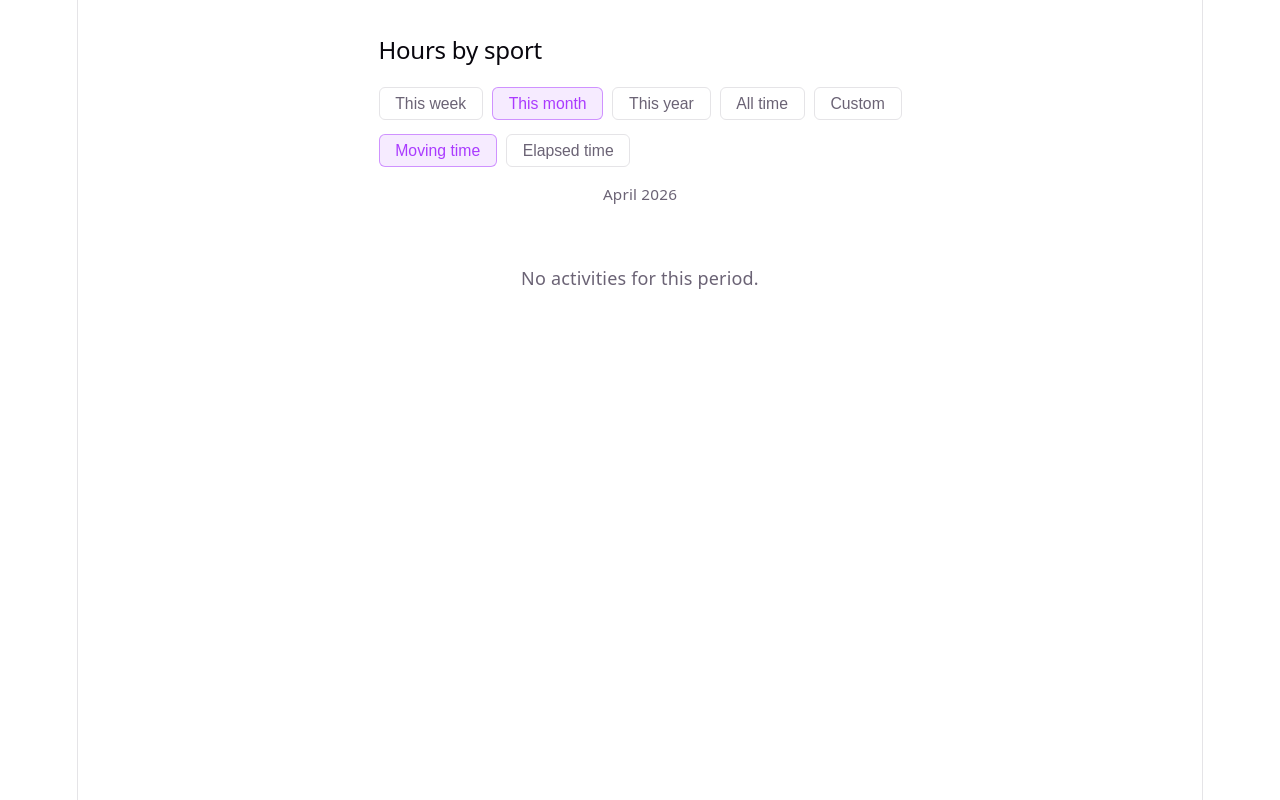
Dashboard › hides the range label when "All time" is selected
Step 1. Click the button "All time" → x=762, y=104, box [720,87,805,120]
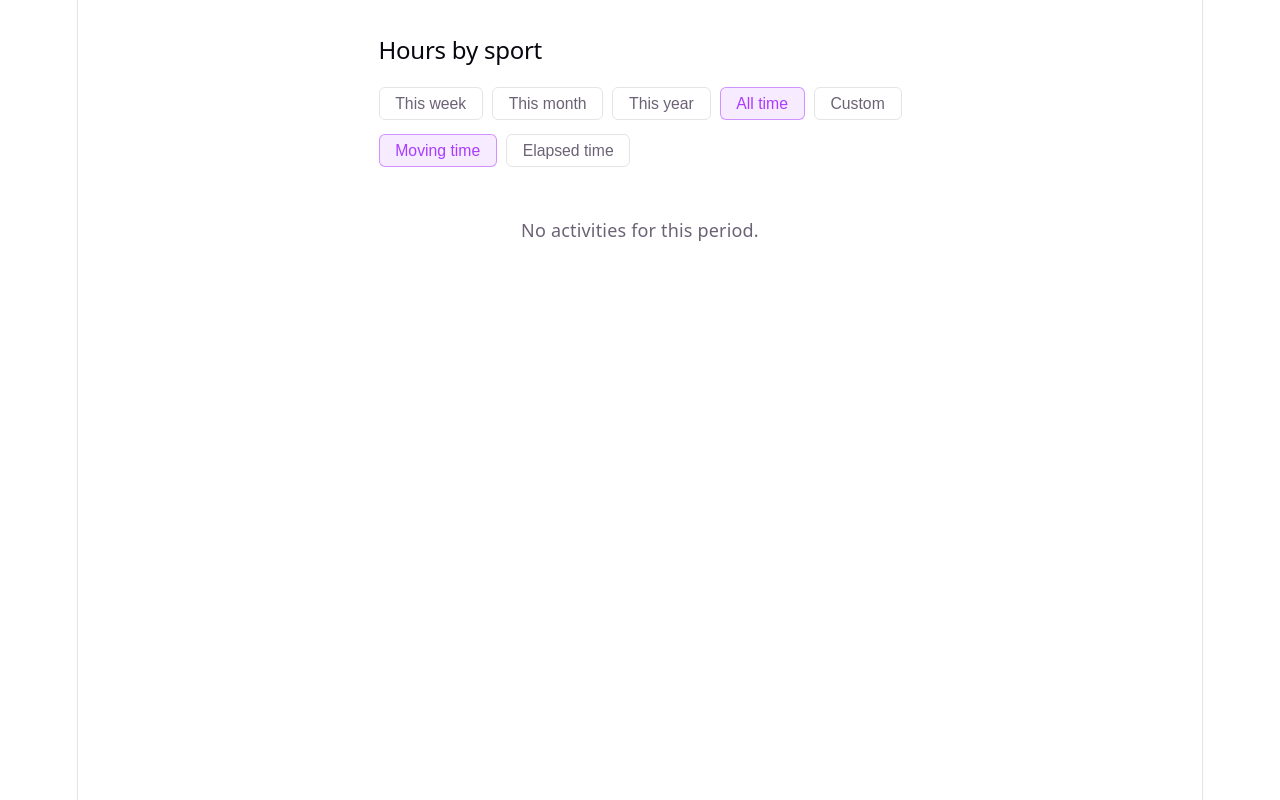
Expected: the text "April 2026" is gone
